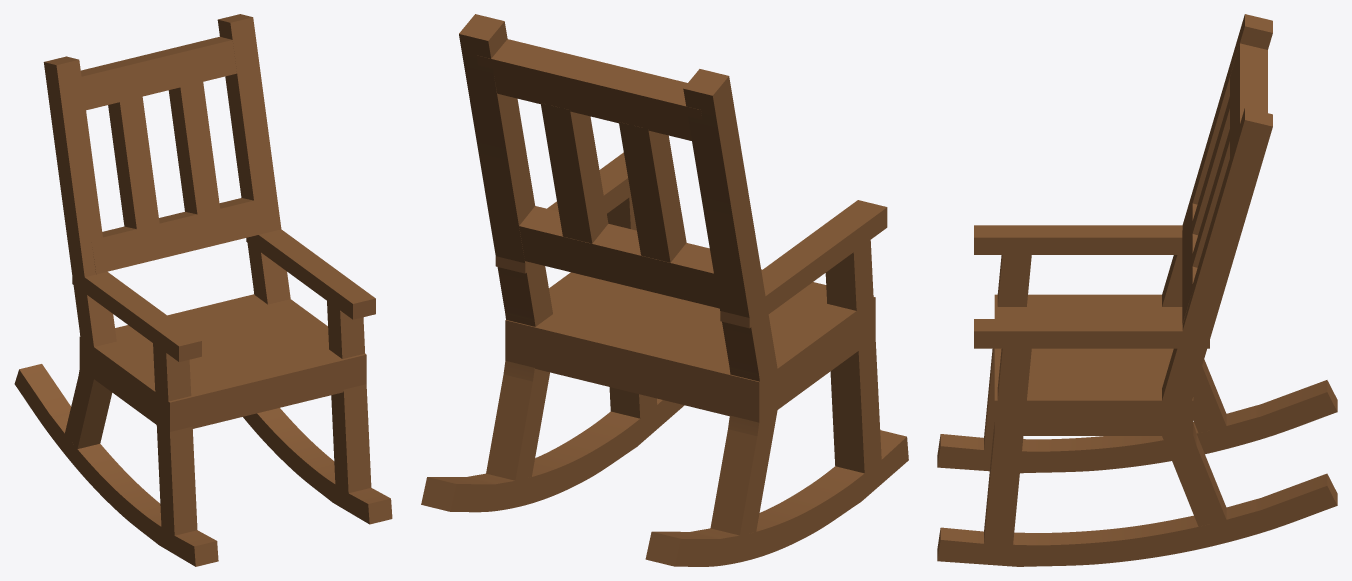
The picture shows the model from 3 angles, left to right: view 1: azimuth 30°, elevation 25°; view 2: azimuth 150°, elevation 25°; view 3: azimuth 270°, elevation 25°; orthographic projection. The views are drawn at different scales.
Visible parts, largest first — view 1: rocking_chair; view 2: rocking_chair; view 3: rocking_chair.
Boxes of the visible parts, x1,y1,x2,y2 form: rocking_chair: (14, 14, 392, 566); rocking_chair: (421, 14, 908, 566); rocking_chair: (937, 14, 1337, 566).
Size of the model in its own units: 0.5084 by 1 by 0.8113.
